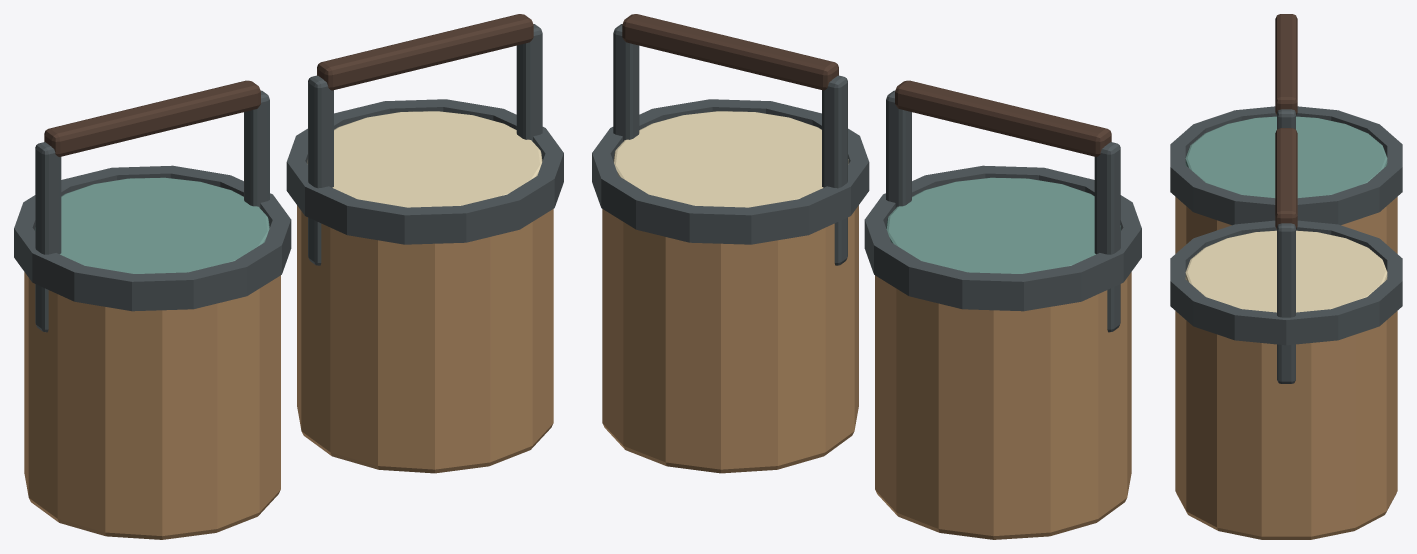
File: goods_paint_pails.glb
The picture shows the model from 3 angles, left to right: view 1: azimuth 30°, elevation 25°; view 2: azimuth 150°, elevation 25°; view 3: azimuth 270°, elevation 25°; orthographic projection. The views are drawn at different scales.
Parts seen in each view (by area): view 1: goods_paint_pails; view 2: goods_paint_pails; view 3: goods_paint_pails.
Boxes of the visible parts, <box> form: goods_paint_pails: <box>14,14,563,539</box>; goods_paint_pails: <box>592,14,1141,539</box>; goods_paint_pails: <box>1170,14,1402,539</box>.
Bounding box in the file's own units: 0.64 × 0.454 × 0.2925.
